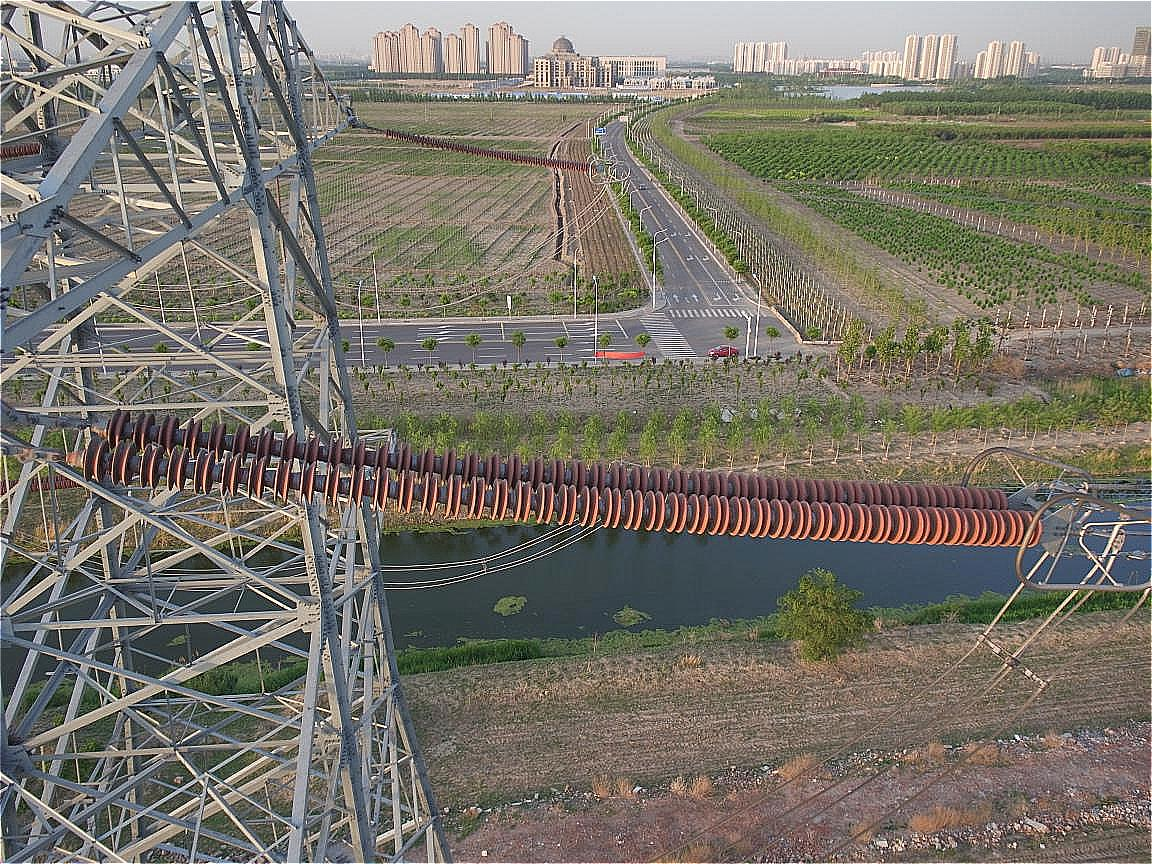insultor2: (47, 384, 1054, 571)
